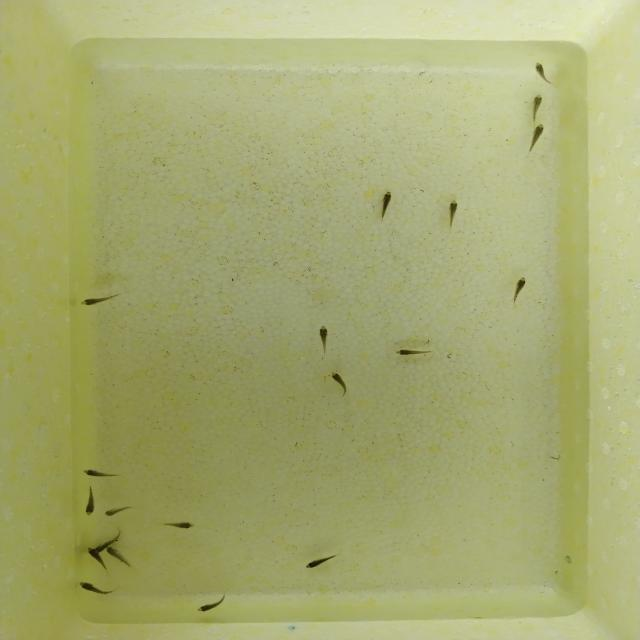fingerling: (76, 288, 132, 308), (299, 550, 346, 572), (506, 274, 531, 311), (527, 58, 557, 88), (522, 123, 546, 158), (195, 591, 230, 615), (327, 368, 352, 401), (75, 580, 120, 598), (375, 189, 395, 222), (106, 546, 135, 568), (81, 484, 99, 518), (80, 468, 128, 480), (445, 197, 461, 232), (526, 92, 545, 121), (392, 347, 442, 358), (316, 322, 332, 356), (84, 546, 105, 570), (102, 505, 136, 519), (159, 520, 201, 531), (100, 532, 122, 545)
